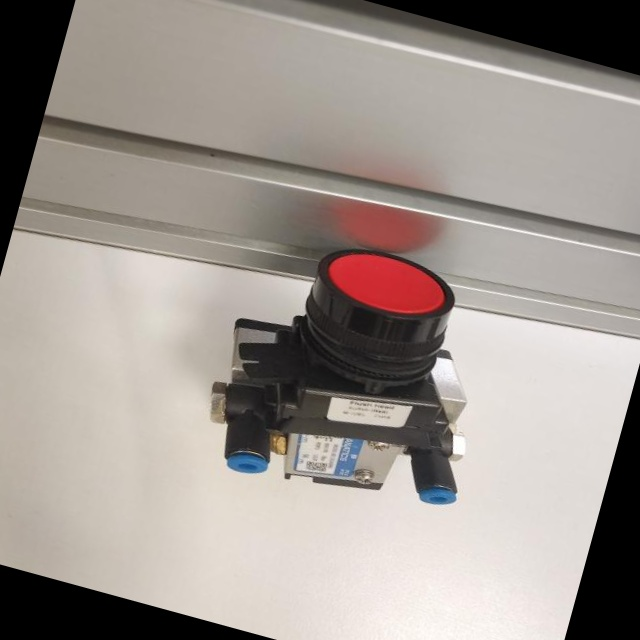push button: (192, 216, 516, 529)
